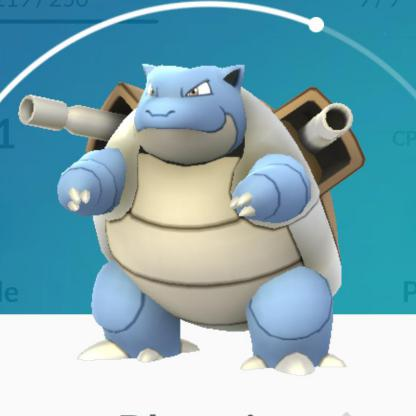Blastoise: (1, 6, 416, 416)
